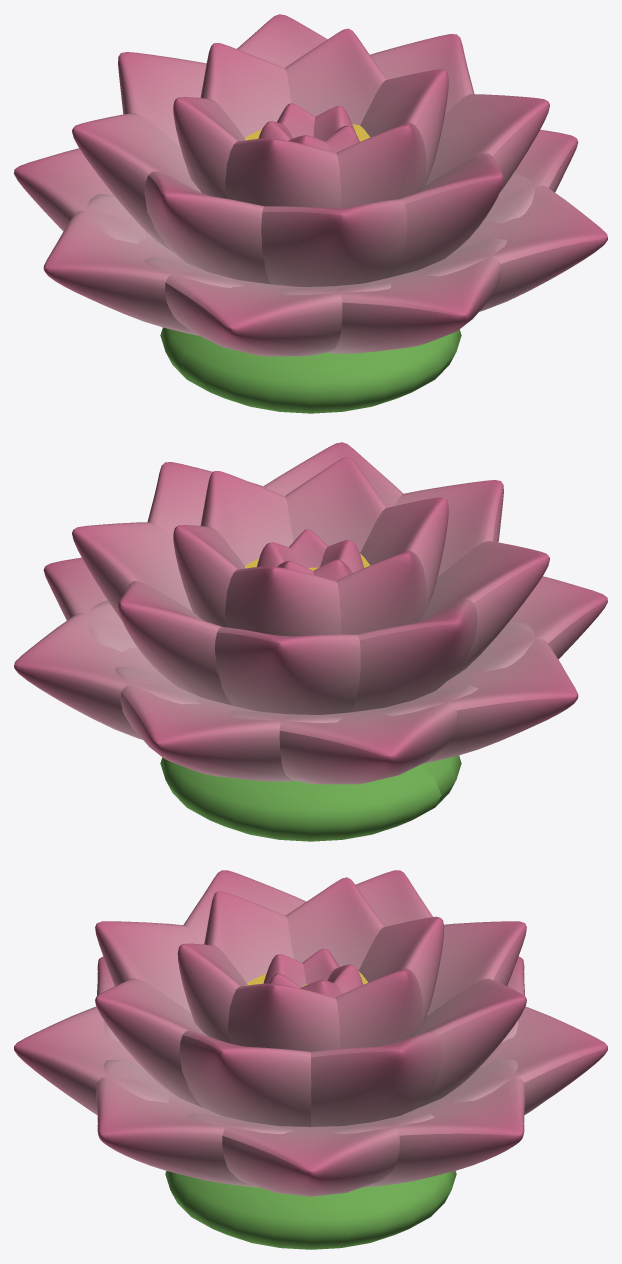
File: lotus.glb
3 views of the same model, one above another, from view 1: azimuth 30°, elevation 25°; view 2: azimuth 150°, elevation 25°; view 3: azimuth 270°, elevation 25° (orthographic). The views are drawn at different scales.
Parts seen in each view (by area): view 1: lotus; view 2: lotus; view 3: lotus.
Boxes of the visible parts, x1,y1,x2,y2 form: lotus: (14,14,607,413); lotus: (14,442,607,841); lotus: (14,870,607,1249).
Size of the model in its own units: 0.3669 by 0.1953 by 0.3669.
